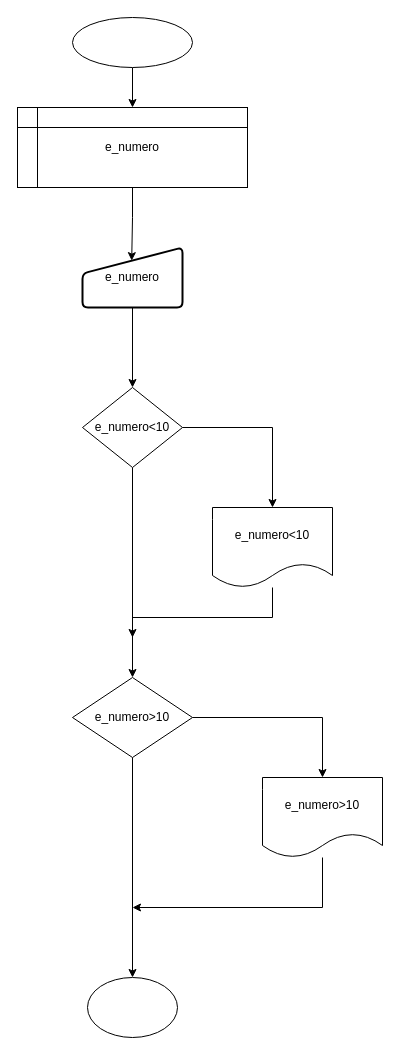
This 400x1055 diagram has some shape labels left out. Each missing label, with the box of its shape:
fim: (86, 976, 178, 1038)
start: (72, 16, 192, 68)
